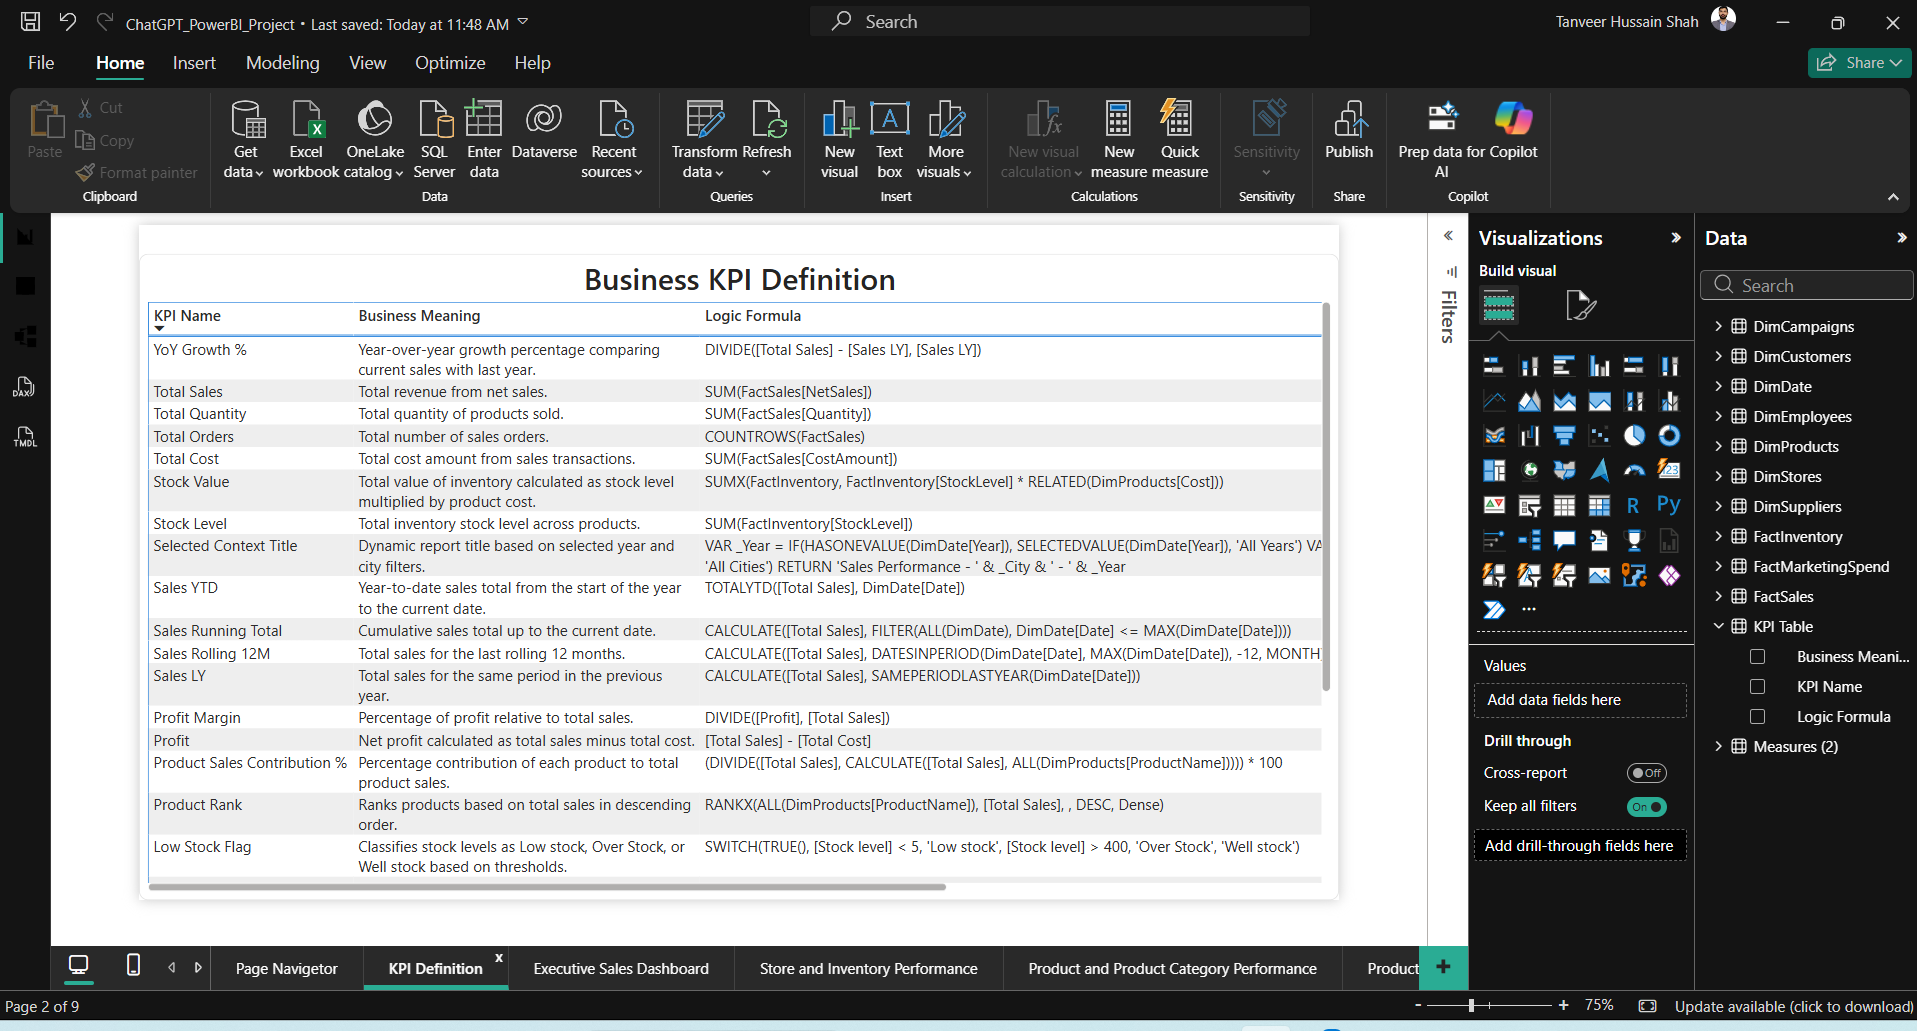

This screenshot's page, from the dashboard's own definition file:
{"tool":"powerbi","page":{"name":"KPI Definition","canvas":[1280,720],"ordinal":1},"visuals":[{"type":"tableEx","title":"Business KPI Definition","fields":{"Values":["KPI Table.KPI Name","KPI Table. Business Meaning","KPI Table.Logic Formula"]},"box":[0,30.7,1280,689.3],"z":0}]}

Visuals, with their boxes on the page's 1280x720 design canvas (x1, y1, x2, y2). These are canvas units, not pixel positions in the 1917x1031 screenshot, which may show the page scaled, cropped or inside an application window:
"Business KPI Definition" tableEx: x1=0 y1=31 x2=1280 y2=720
